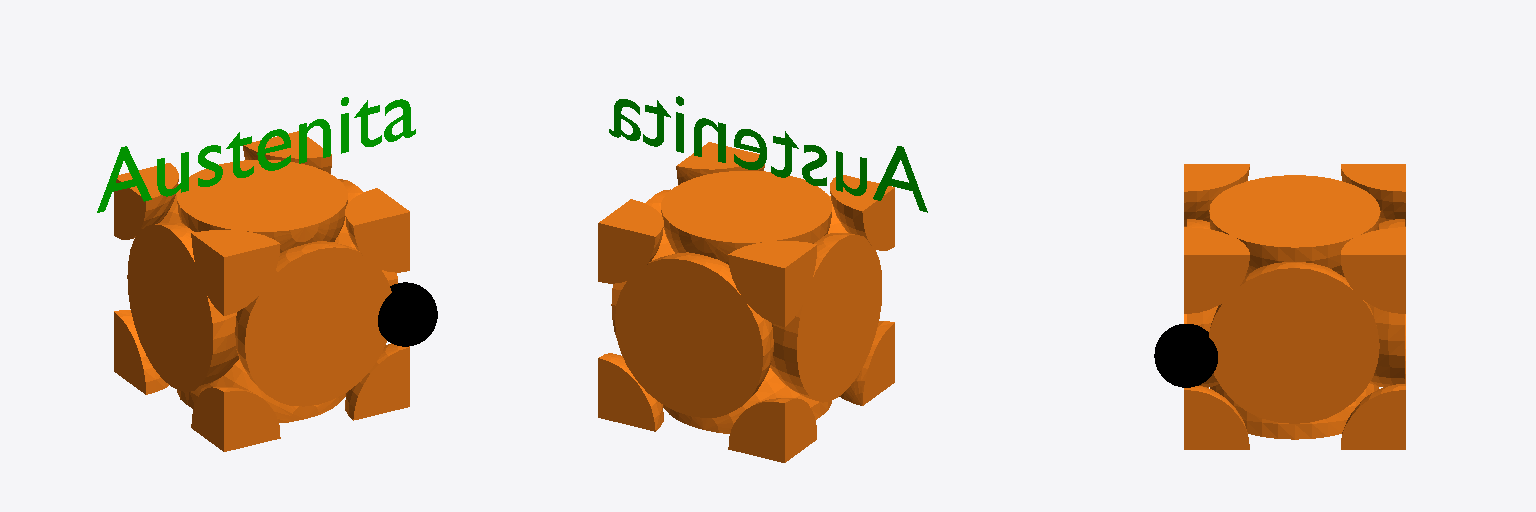
File: austenita.obj
3 renders of one model, left to right at view 1: azimuth 30°, elevation 25°; view 2: azimuth 150°, elevation 25°; view 3: azimuth 270°, elevation 25°, orthographic.
Parts seen in each view (by area): view 1: Sphere.415_Sphere.001, Sphere.414_Sphere.001, Sphere.418_Sphere.001, Text_Text.013, Sphere.407_Sphere.001, Sphere.406_Sphere.001, Sphere.409_Sphere.001, Sphere.408_Sphere.001, Sphere, Sphere.403_Sphere.001, Sphere.402_Sphere.001, Sphere.417_Sphere.001 (+2 smaller); view 2: Sphere.416_Sphere.001, Sphere.414_Sphere.001, Sphere.418_Sphere.001, Text_Text.013, Sphere.403_Sphere.001, Sphere.402_Sphere.001, Sphere.405_Sphere.001, Sphere.404_Sphere.001, Sphere.407_Sphere.001, Sphere.406_Sphere.001, Sphere.417_Sphere.001, Sphere.409_Sphere.001 (+1 smaller); view 3: Sphere.413_Sphere.001, Sphere.418_Sphere.001, Sphere.409_Sphere.001, Sphere.405_Sphere.001, Sphere.404_Sphere.001, Sphere.408_Sphere.001, Sphere, Sphere.407_Sphere.001, Sphere.403_Sphere.001, Sphere.416_Sphere.001, Sphere.417_Sphere.001, Sphere.415_Sphere.001.
Boxes of the visible parts, x1,y1,x2,y2 form: Sphere.415_Sphere.001: [235, 241, 391, 406]; Sphere.414_Sphere.001: [127, 223, 238, 391]; Sphere.418_Sphere.001: [177, 160, 347, 252]; Text_Text.013: [97, 97, 415, 212]; Sphere.407_Sphere.001: [191, 230, 280, 315]; Sphere.406_Sphere.001: [191, 387, 280, 451]; Sphere.409_Sphere.001: [345, 188, 409, 272]; Sphere.408_Sphere.001: [345, 343, 409, 420]; Sphere: [378, 282, 437, 346]; Sphere.403_Sphere.001: [114, 163, 178, 239]; Sphere.402_Sphere.001: [114, 310, 168, 394]; Sphere.417_Sphere.001: [177, 359, 345, 422]; Sphere.416_Sphere.001: [615, 252, 773, 417]; Sphere.414_Sphere.001: [770, 233, 881, 402]; Sphere.418_Sphere.001: [661, 171, 831, 264]; Text_Text.013: [609, 96, 927, 212]; Sphere.403_Sphere.001: [728, 241, 816, 326]; Sphere.402_Sphere.001: [728, 398, 816, 462]; Sphere.405_Sphere.001: [598, 199, 663, 283]; Sphere.404_Sphere.001: [598, 353, 663, 431]; Sphere.407_Sphere.001: [830, 175, 894, 250]; Sphere.406_Sphere.001: [839, 321, 894, 405]; Sphere.417_Sphere.001: [663, 368, 831, 433]; Sphere.409_Sphere.001: [676, 142, 764, 184]; Sphere.413_Sphere.001: [1209, 262, 1379, 423]; Sphere.418_Sphere.001: [1209, 175, 1380, 276]; Sphere.409_Sphere.001: [1184, 227, 1249, 313]; Sphere.405_Sphere.001: [1341, 227, 1405, 313]; Sphere.404_Sphere.001: [1341, 384, 1405, 449]; Sphere.408_Sphere.001: [1184, 386, 1249, 449]; Sphere: [1154, 324, 1217, 387]; Sphere.407_Sphere.001: [1184, 164, 1249, 226]; Sphere.403_Sphere.001: [1341, 164, 1405, 226]; Sphere.416_Sphere.001: [1368, 219, 1404, 387]; Sphere.417_Sphere.001: [1210, 383, 1378, 439]; Sphere.415_Sphere.001: [1187, 219, 1218, 387].
Bounding box in the file's own units: 5.91 × 5.02 × 4.03.